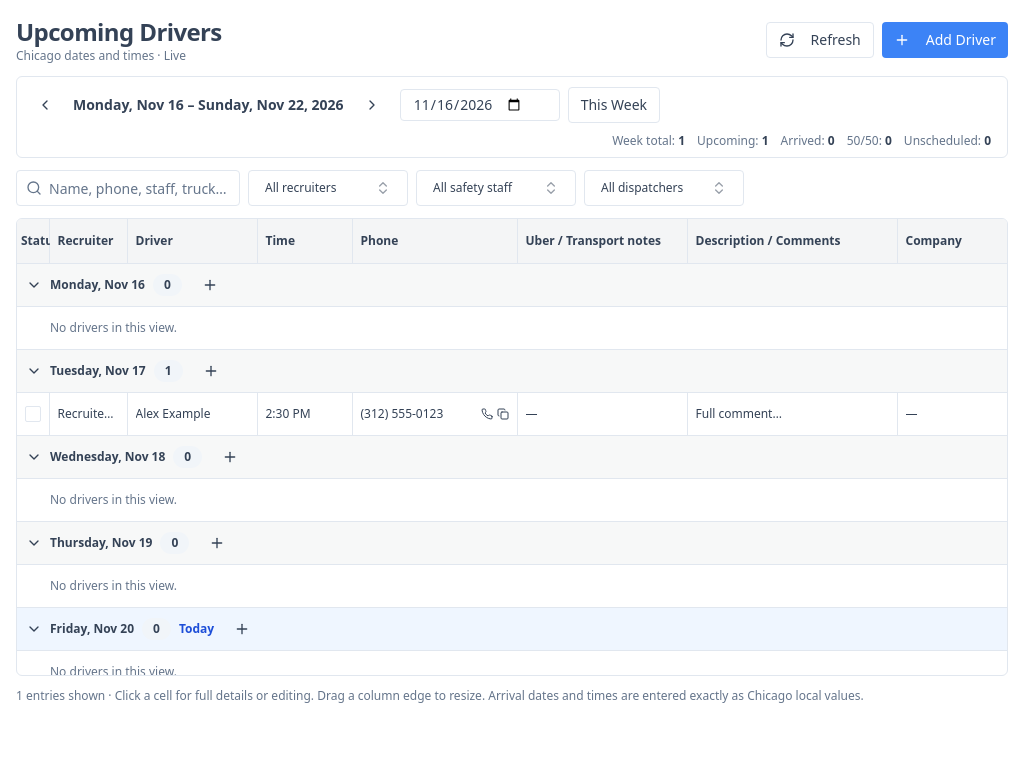
Test: Weekly board › navigates whole weeks and returns to This Week
Click the button named "Next week": coordinates (372, 105) x1=352 y1=85 x2=392 y2=125
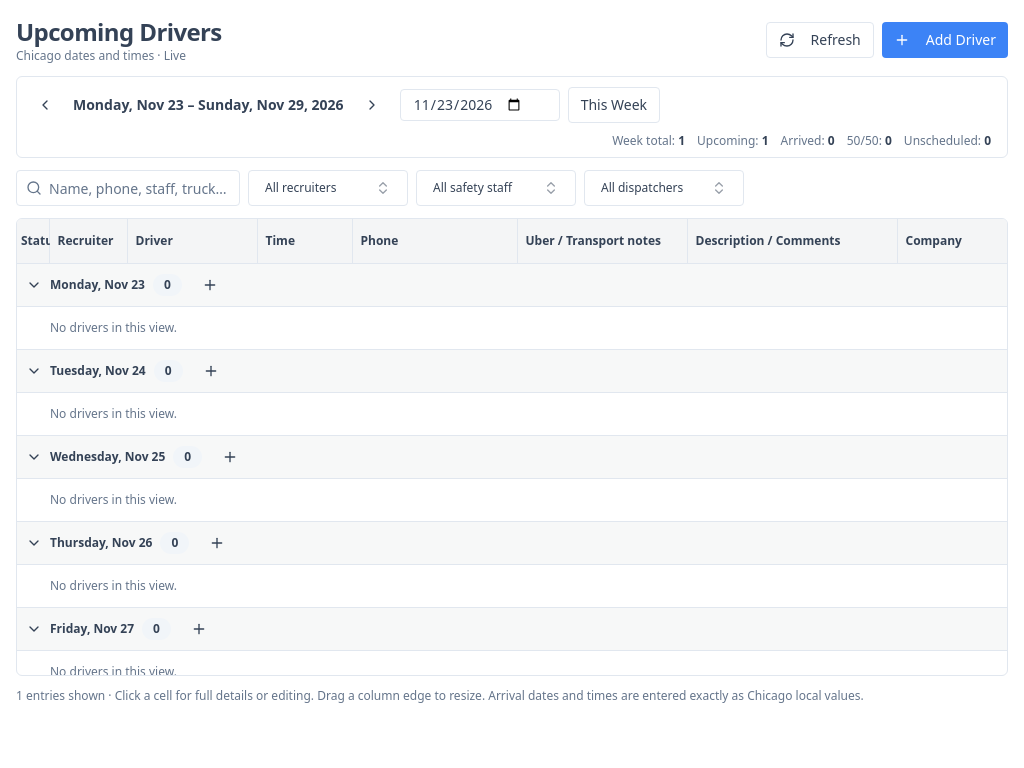
Click the button named "Previous week": coordinates (45, 105) x1=25 y1=85 x2=65 y2=125
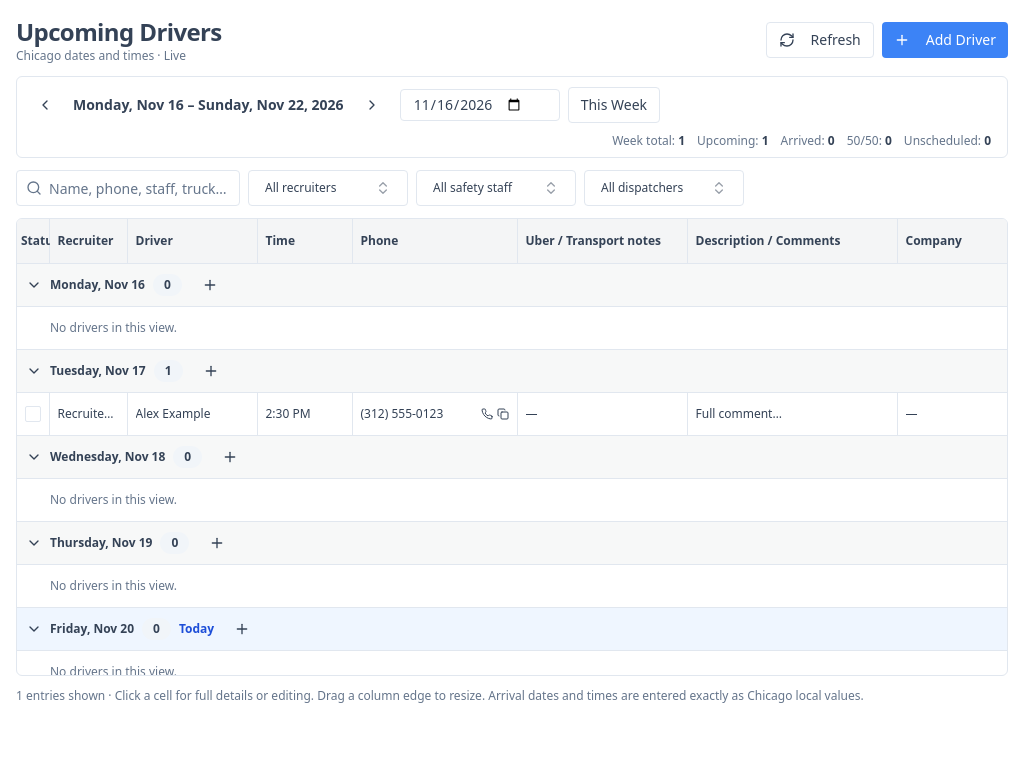
Now the date field named "Choose week" holds "2026-11-16"
In the date field named "Choose week": coordinates (480, 105) x1=400 y1=89 x2=560 y2=121, type "2026-11-01"
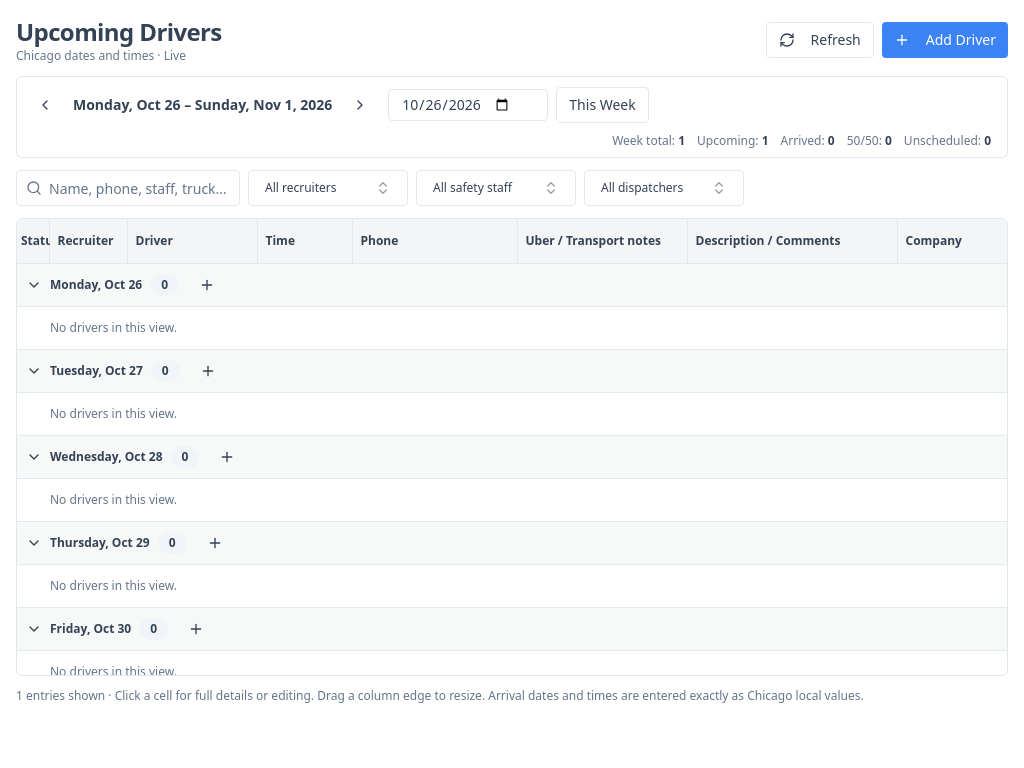
Now the date field named "Choose week" holds "2026-10-26", box x1=388 y1=89 x2=548 y2=121
Click the button "This Week": coordinates (602, 105) x1=556 y1=87 x2=649 y2=123
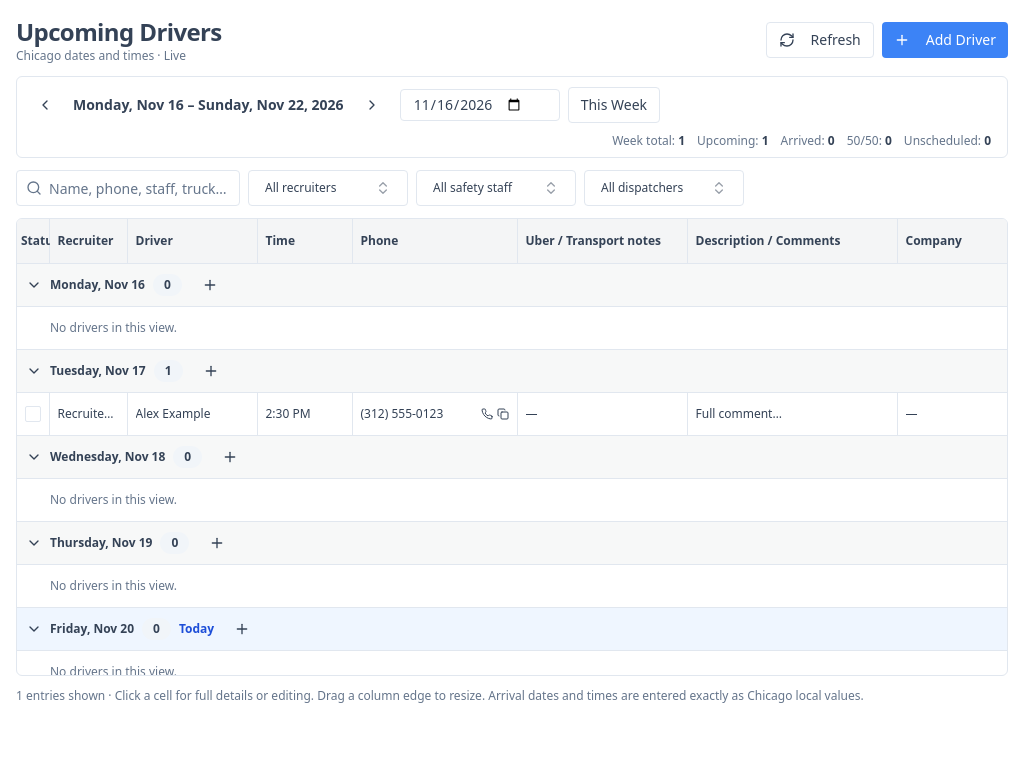
Now the date field named "Choose week" holds "2026-11-16", box x1=400 y1=89 x2=560 y2=121
